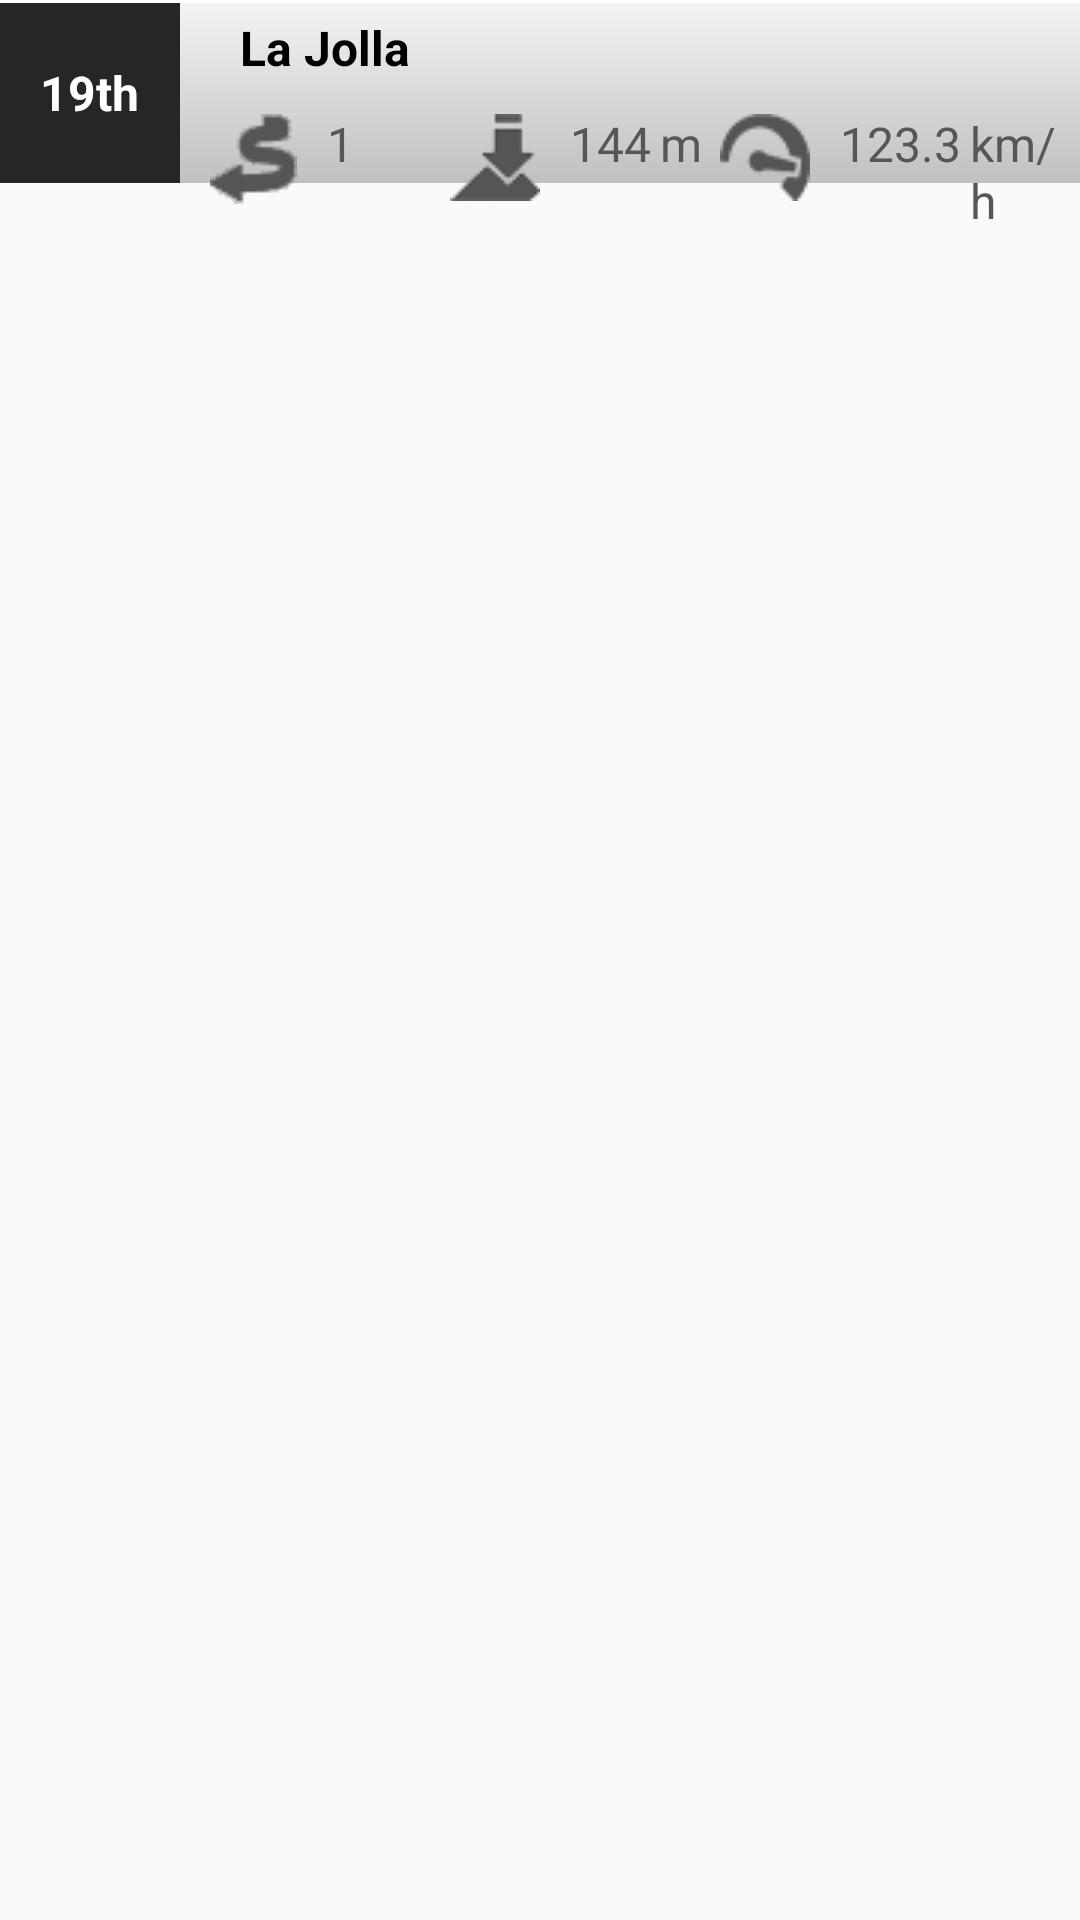

Icons on this 1080 x 1920 Android screen, each with the point to tap as point (x, y):
trips run: point (253, 159)
trips speed: point (765, 157)
trips vertical: point (495, 157)
